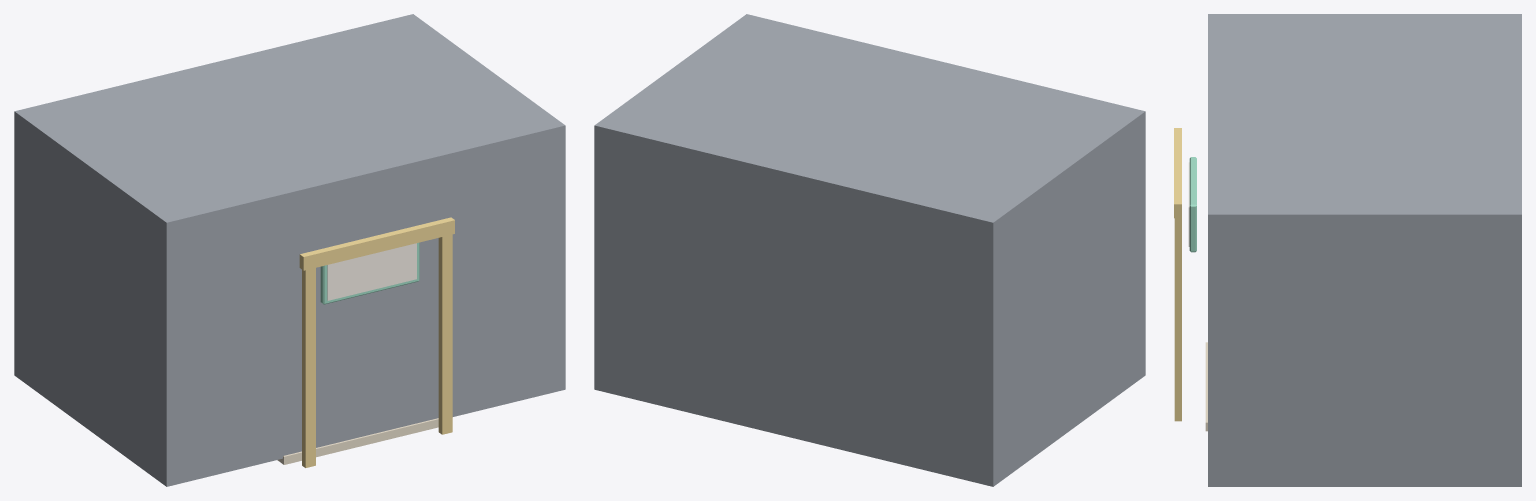
The model's file is CleanACat_Area_GardenLocked.fbx.
3 renders of one model, left to right at view 1: azimuth 30°, elevation 25°; view 2: azimuth 150°, elevation 25°; view 3: azimuth 270°, elevation 25°, orthographic. The views are drawn at different scales.
Parts seen in each view (by area): view 1: CleanACat_Area_GardenLocked_Barrier, CleanACat_Area_GardenLocked, CleanACat_Area_GardenLocked_Screen, CleanACat_Area_GardenLocked_Sign_Decor; view 2: CleanACat_Area_GardenLocked_Barrier; view 3: CleanACat_Area_GardenLocked_Barrier, CleanACat_Area_GardenLocked, CleanACat_Area_GardenLocked_Sign_Decor.
Part boxes in pixels (bbox=[...]): CleanACat_Area_GardenLocked_Barrier: bbox=[14, 14, 565, 486]; CleanACat_Area_GardenLocked: bbox=[277, 217, 454, 467]; CleanACat_Area_GardenLocked_Screen: bbox=[327, 243, 416, 300]; CleanACat_Area_GardenLocked_Sign_Decor: bbox=[320, 242, 419, 304]; CleanACat_Area_GardenLocked_Barrier: bbox=[594, 14, 1145, 486]; CleanACat_Area_GardenLocked_Barrier: bbox=[1208, 14, 1521, 486]; CleanACat_Area_GardenLocked: bbox=[1174, 128, 1207, 431]; CleanACat_Area_GardenLocked_Sign_Decor: bbox=[1189, 157, 1196, 252].
Bounding box in the file's own units: 18.96 × 12.28 × 13.89.
1 material, 1 textured.
